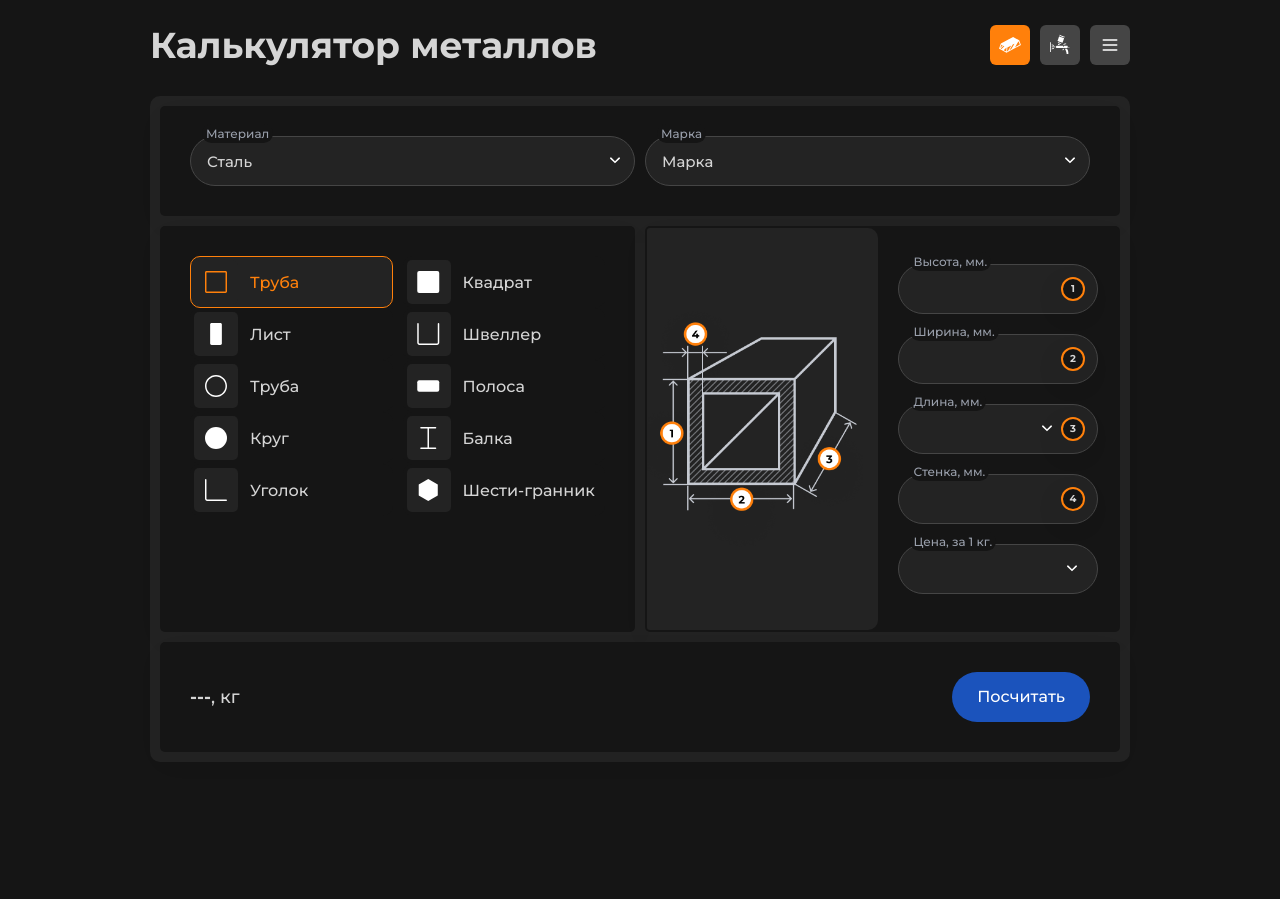
Test case: App common test › Counting results
The width and height of the screenshot is (1280, 899).
Expected: the text "Результаты подсчёта" is not shown
In the number field with test id "height": (998, 289) [898,264,1098,314], type "100"
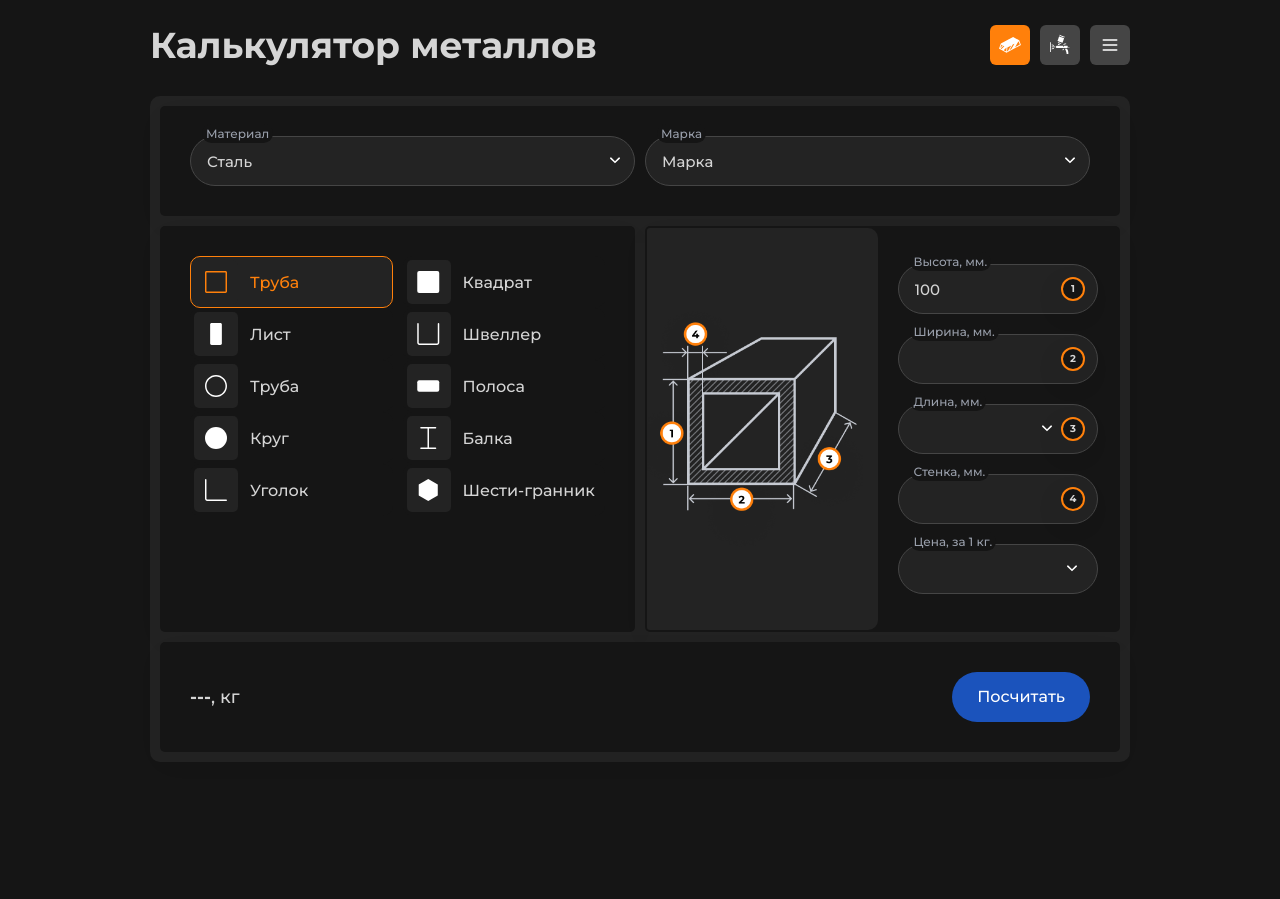
In the number field with test id "width": (998, 359) [898,334,1098,384], type "100"
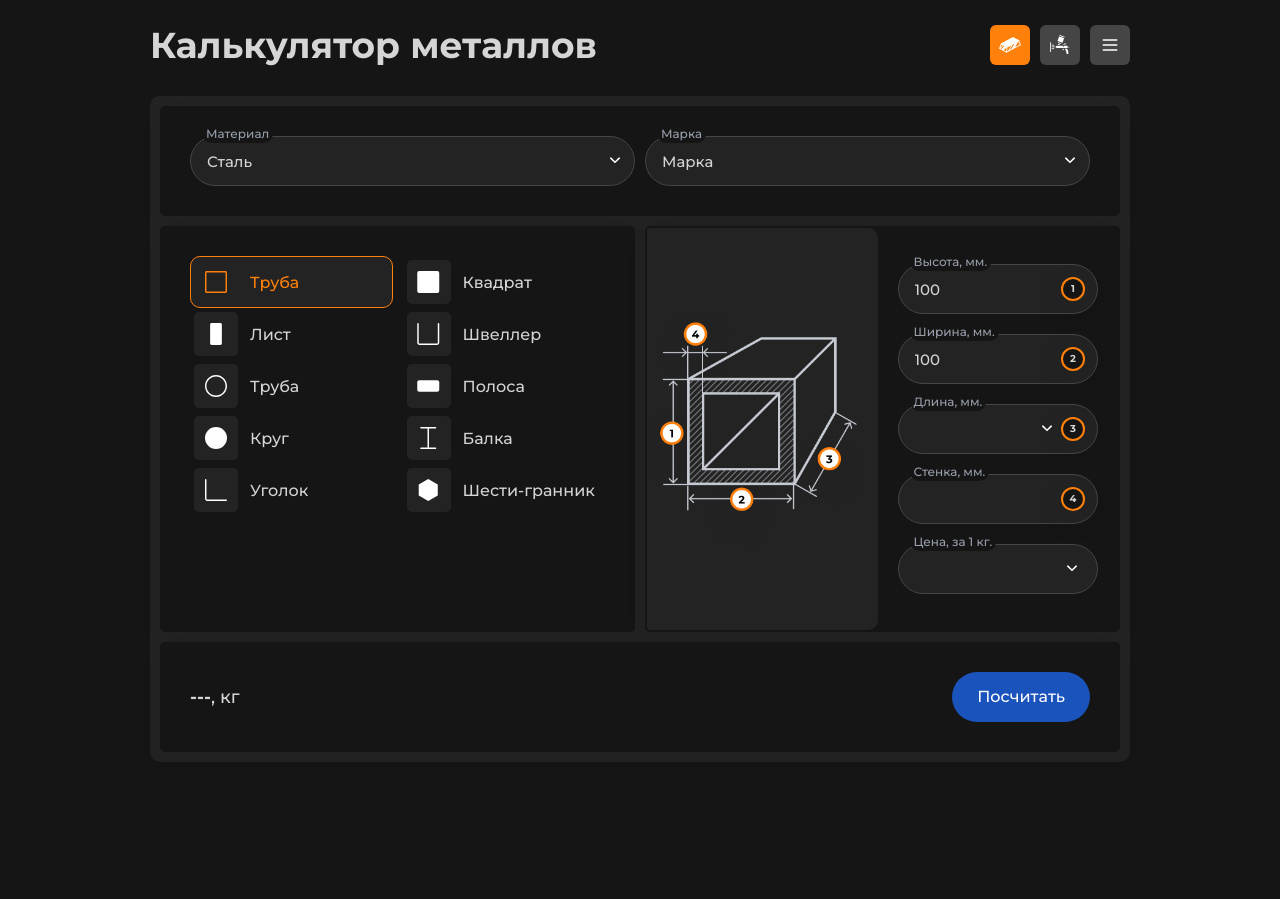
In the number field with test id "length": (998, 429) [898,404,1098,454], type "1000"
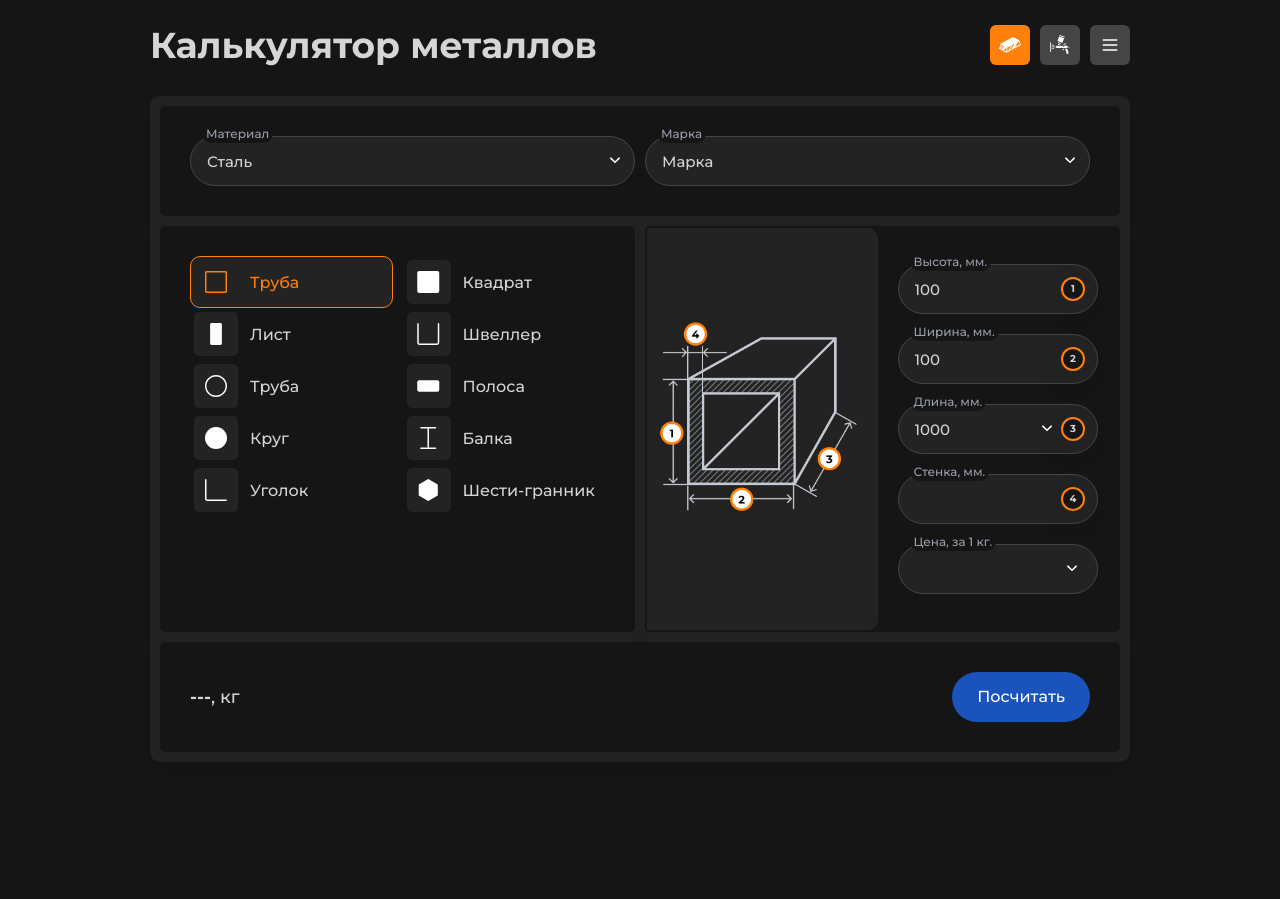
In the number field with test id "wall": (998, 499) [898,474,1098,524], type "10"
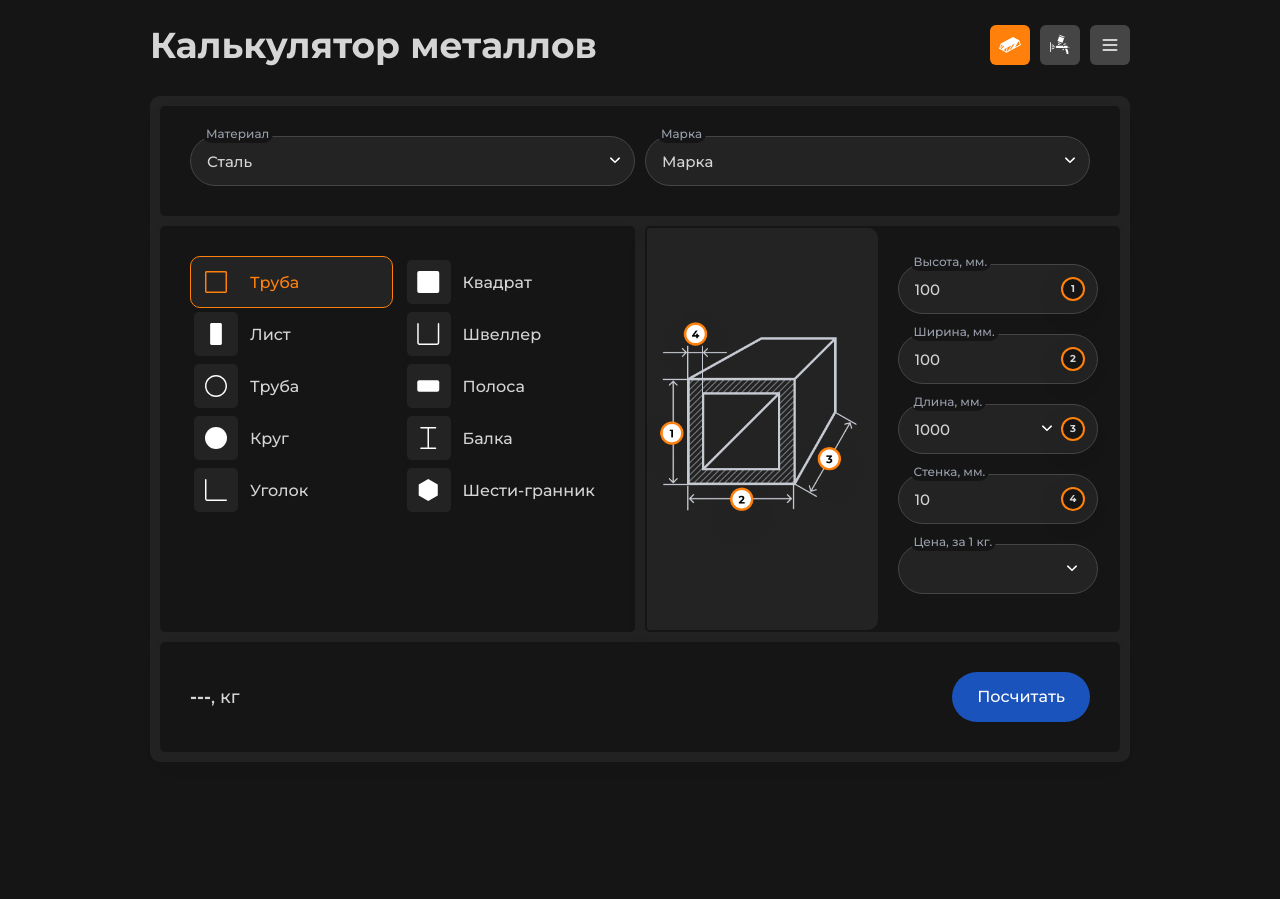
Click the button "Посчитать": (1021, 697) [952,672,1090,722]
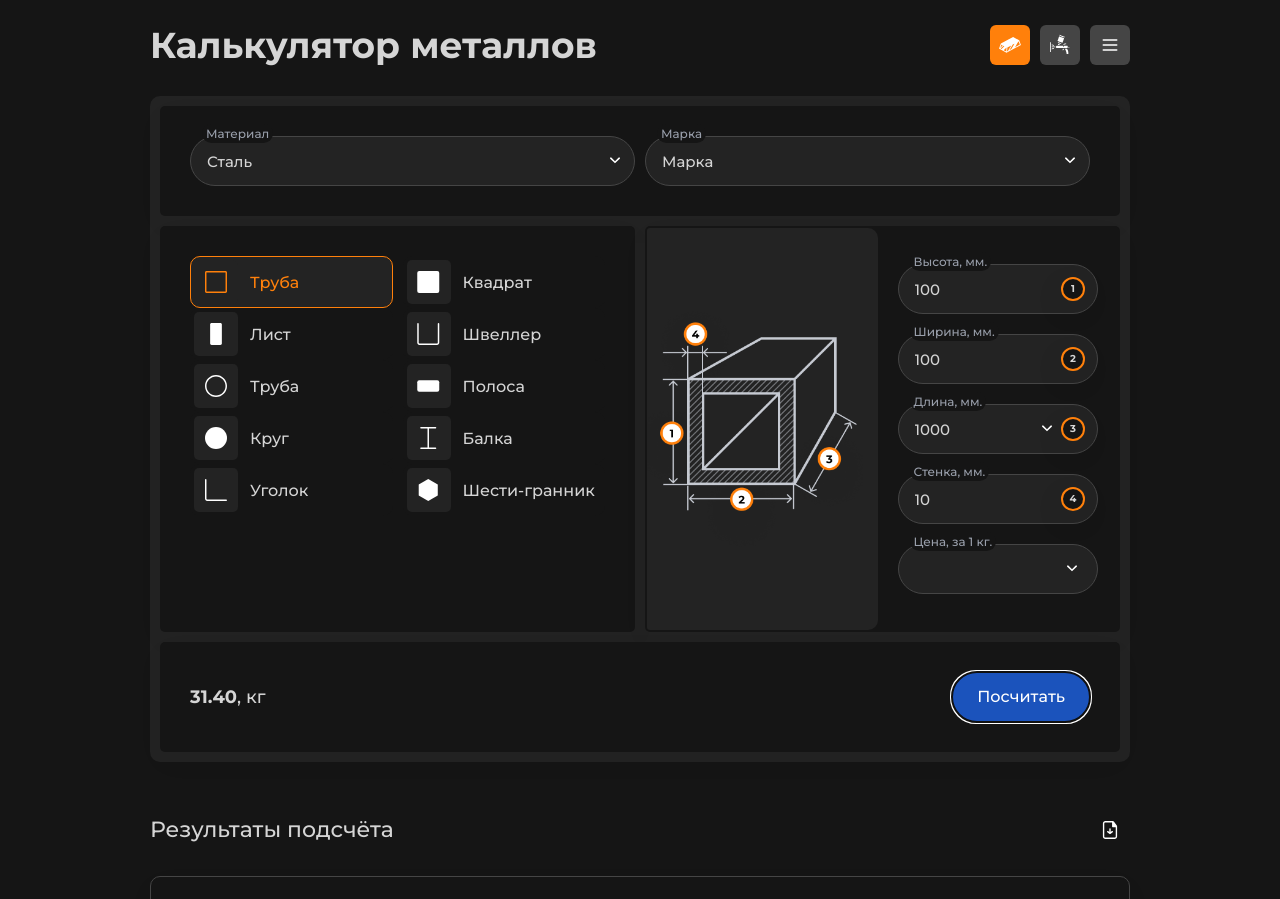
Now the heading "Результаты подсчёта" is shown, box [150,817,394,843]
